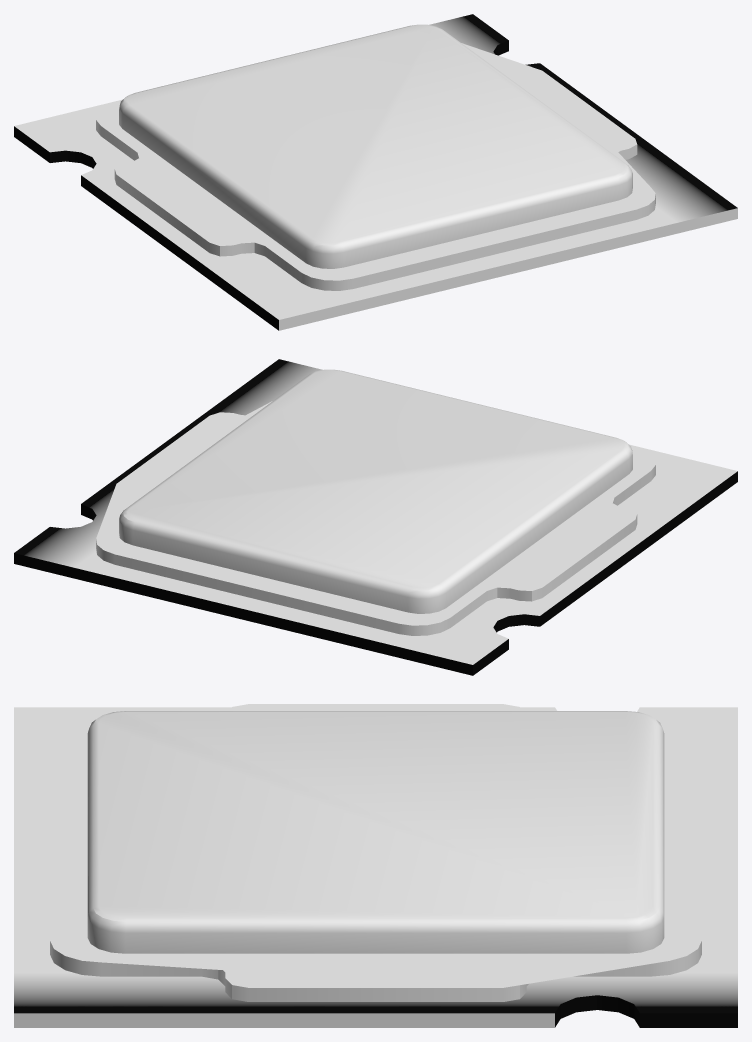
The model's file is CPU.fbx.
3 renders of one model, top to bottom at view 1: azimuth 30°, elevation 25°; view 2: azimuth 150°, elevation 25°; view 3: azimuth 270°, elevation 25°, orthographic. The views are drawn at different scales.
Parts seen in each view (by area): view 1: CPU; view 2: CPU; view 3: CPU.
Boxes of the visible parts, x1=… form: CPU: x1=14, y1=14, x2=737, y2=330; CPU: x1=14, y1=359, x2=737, y2=675; CPU: x1=14, y1=704, x2=737, y2=1027.
Size of the model in its own units: 59.35 by 5.42 by 59.35.
